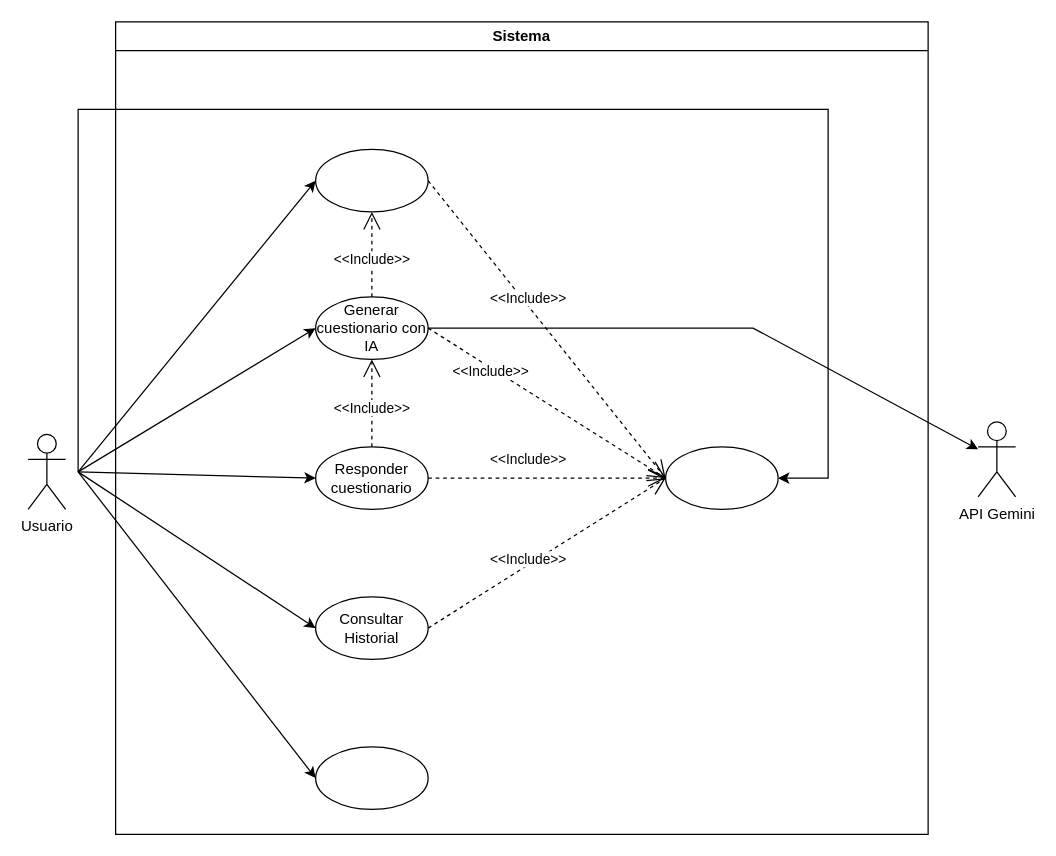
This 1056x856 diagram has some shape labels left out. Each missing label, with the box of its shape:
Iniciar sesión: (664, 446, 778, 509)
Registrar Usuario: (314, 746, 428, 809)
SubIr PDF: (314, 148, 428, 212)
